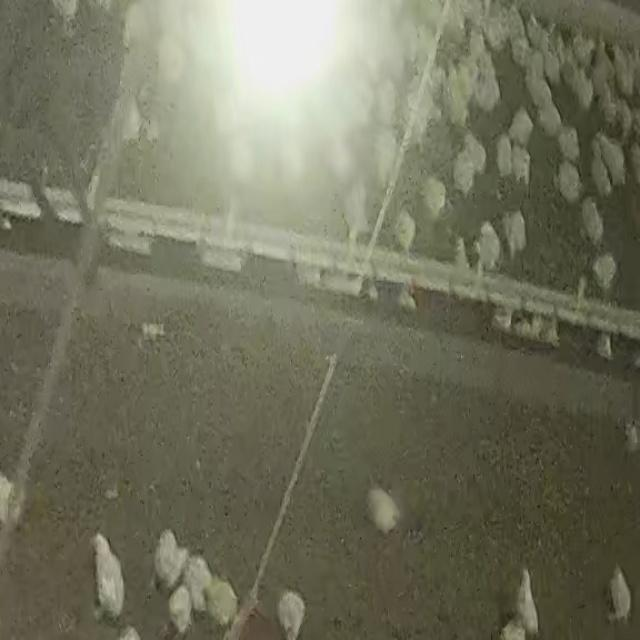chicken: (79, 528, 123, 622), (353, 480, 408, 540), (505, 564, 545, 632), (152, 527, 186, 584), (184, 554, 212, 615), (208, 576, 238, 629), (600, 137, 630, 189), (502, 208, 533, 258), (278, 590, 307, 640), (552, 158, 585, 201), (475, 220, 503, 268), (450, 151, 478, 198), (579, 197, 607, 244), (588, 140, 610, 197), (609, 570, 633, 622), (422, 176, 453, 215), (166, 585, 191, 632), (509, 103, 536, 146), (535, 99, 566, 136), (592, 38, 618, 81), (488, 133, 512, 179), (526, 70, 556, 104), (475, 76, 506, 107), (557, 125, 585, 158), (397, 212, 421, 249), (598, 83, 618, 126), (590, 254, 618, 284), (574, 66, 592, 111)
